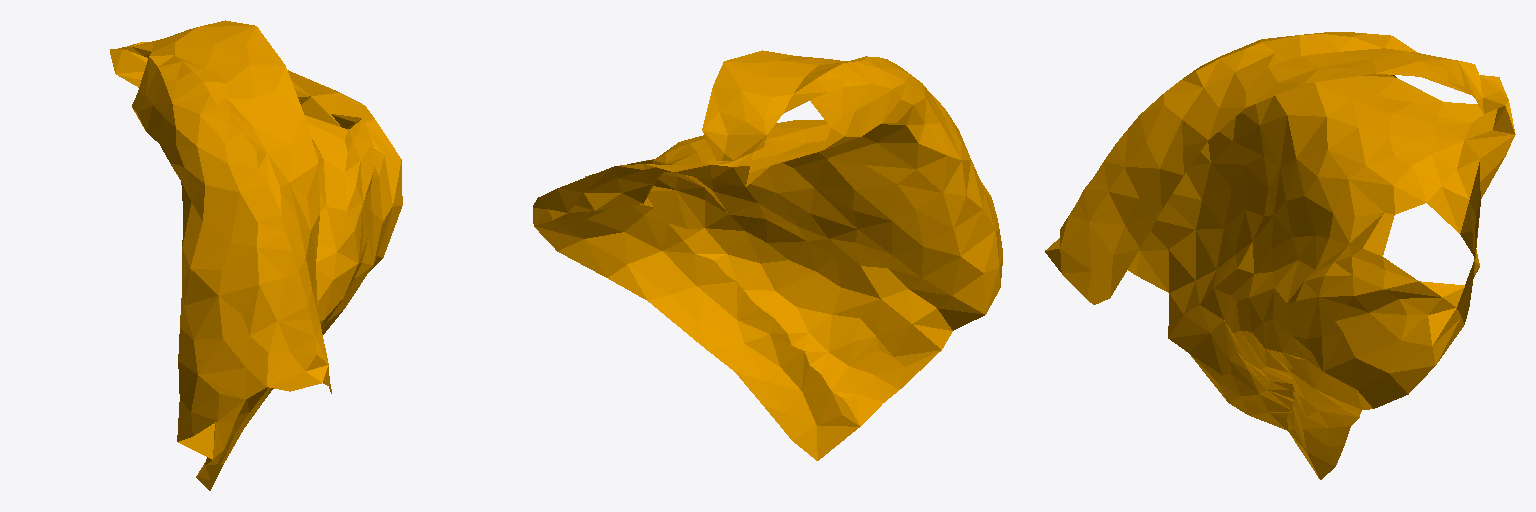
URDF robot description (init):
<?xml version='1.0' encoding='utf-8'?>
<robot name="init">
<link name="link_0"><inertial><mass value="1.0" /><origin rpy="0 0 0" xyz="0.000000 0.000000 0.000000" /><inertia ixx="1.0" ixy="0.0" ixz="0.0" iyy="1.0" iyz="0.0" izz="1.0" /></inertial><visual><origin rpy="0 0 0" xyz="0.000000 0.000000 0.000000" /><geometry><mesh filename="./clothHuman/cloth/1719.obj" /></geometry></visual><collision><origin rpy="0 0 0" xyz="0.000000 0.000000 0.000000" /><geometry><mesh filename="./clothHuman/cloth/1719.obj" /></geometry></collision></link></robot>

--- What the picture shows (computed from the rendered views, not written in the file) ---
The picture shows the robot from 3 angles, left to right: view 1: azimuth 30°, elevation 25°; view 2: azimuth 150°, elevation 25°; view 3: azimuth 270°, elevation 25°; orthographic projection.
Model init with 1 links and 0 joints (none), rooted at link_0, posed all joints at 0.
Links seen in each view (by area): view 1: link_0; view 2: link_0; view 3: link_0.
Boxes of the visible links, x1=… form: link_0: x1=110, y1=20, x2=402, y2=490; link_0: x1=533, y1=50, x2=1002, y2=460; link_0: x1=1045, y1=32, x2=1515, y2=479.
Bounding box of the posed robot: 2.99 × 3.33 × 3.46 m (x, y, z).
1 mesh visuals loaded from 1 distinct referenced files (1 OBJ).